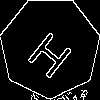H: (25, 22, 81, 81)
